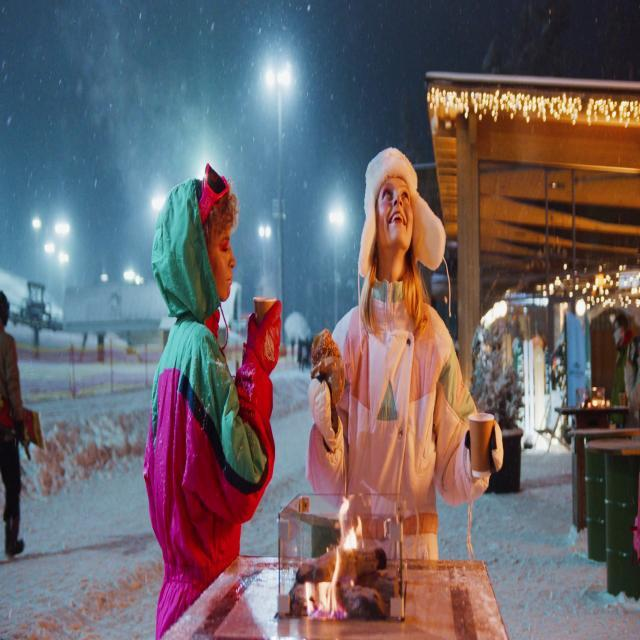Fire: (305, 481, 368, 621)
